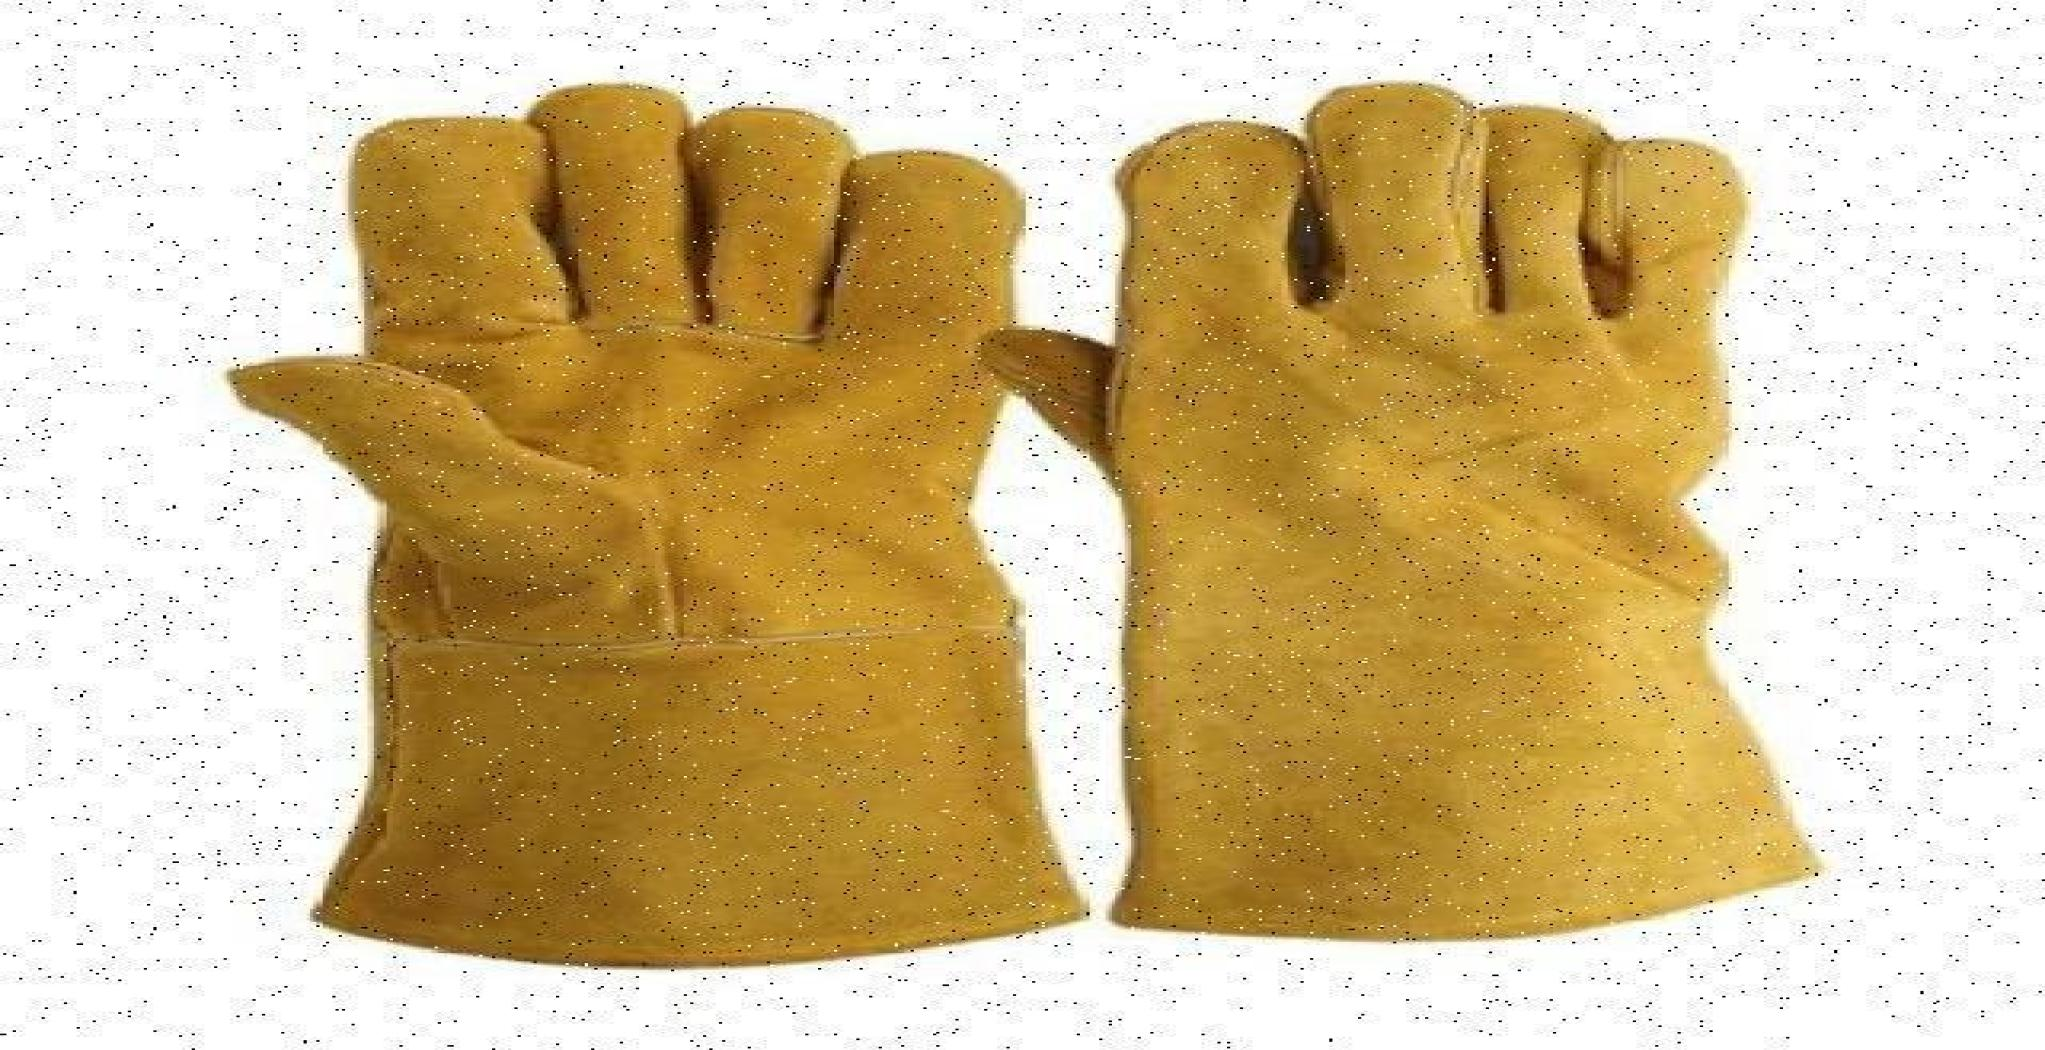gloved: (224, 79, 1090, 968), (980, 78, 1824, 942)
